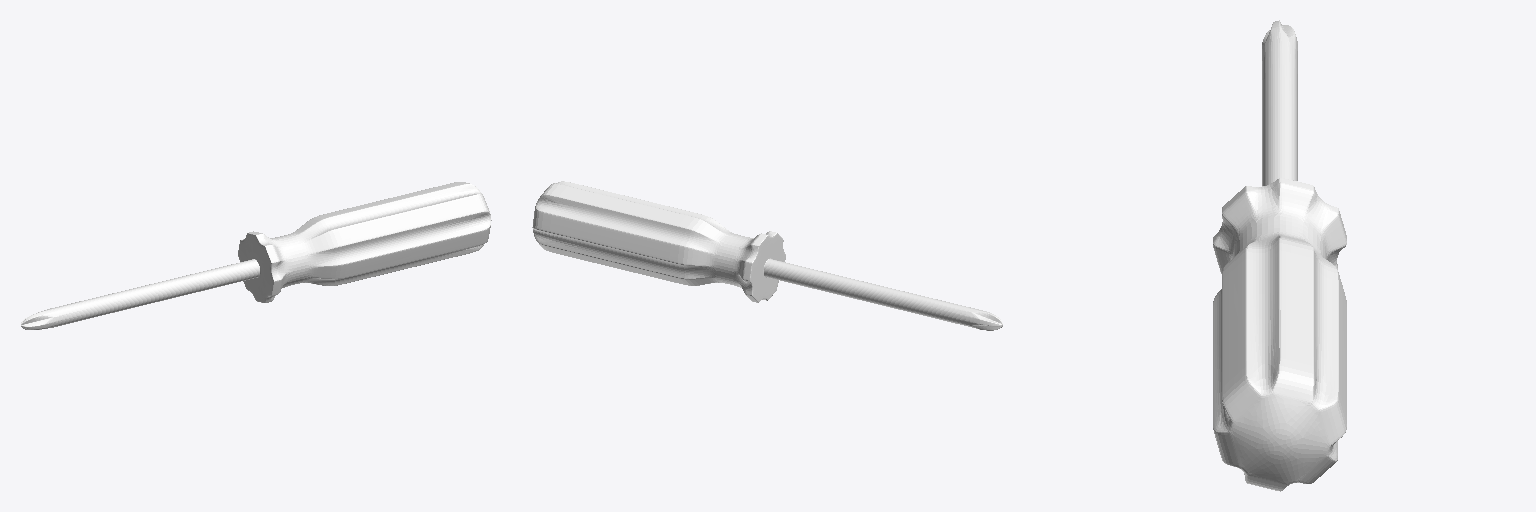
robot.urdf — apple:
<?xml version="1.0" encoding="utf-8"?>
<robot name="apple">
  <link name="base_link">
    <contact>
      <lateral_friction value="0.5"/>
      <rolling_friction value="0.0"/>
      <contact_cfm value="0.0"/>
      <contact_erp value="0.0"/>
    </contact>
    <inertial>
      <origin rpy="0 0 0" xyz="0 0 0"/>
      <mass value="0.01"/>
      <inertia ixx="0" ixy="0" ixz="0" iyy="0" iyz="0" izz="0"/>
    </inertial>
    <visual>
      <origin rpy="1.57 0 0" xyz="0 0 0.05"/>
      <geometry>
        <mesh filename="models/meshes/screwdriver/screwdriver.obj" scale="0.02 0.02 0.02"/>
      </geometry>
      <material name="hi">
        <color rgba="1 1 1 1"/>
      </material>
    </visual>
    <collision>
      <origin rpy="1.57 0 0" xyz="0 0 0.05"/>
      <geometry>
        <mesh filename="models/meshes/screwdriver/screwdriver.obj" scale="0.02 0.02 0.02"/>
      </geometry>
    </collision>
  </link>
</robot>

--- Render facts (derived) ---
3 views of the same robot in one strip: view 1: azimuth 30°, elevation 25°; view 2: azimuth 150°, elevation 25°; view 3: azimuth 270°, elevation 25° (orthographic).
Robot: apple — 1 links, 0 joints (none); root link base_link; default pose: all joints at 0.
Visible links, largest first — view 1: base_link; view 2: base_link; view 3: base_link.
Link boxes in pixels (box(x1,y1,x2,y2)): base_link: box(21, 182, 491, 329); base_link: box(532, 181, 1002, 330); base_link: box(1213, 20, 1346, 491).
Size in the robot's own frame: 0.418 by 0.0568 by 0.0568 metres.
Meshes: 1 distinct files referenced, 1 mesh visuals loaded (1 OBJ).